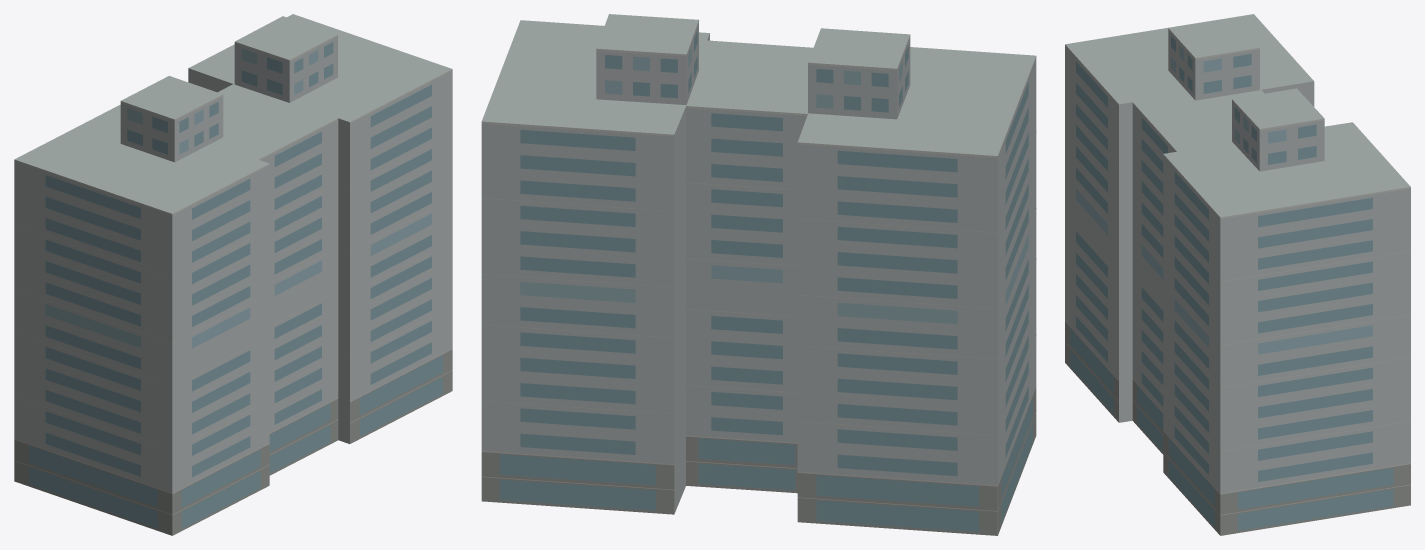
The model's file is residential-4451fd1a-79a7-4148-997d-b99a69b06c91.glb.
3 renders of one model, left to right at view 1: azimuth 30°, elevation 25°; view 2: azimuth 150°, elevation 25°; view 3: azimuth 270°, elevation 25°, orthographic. The views are drawn at different scales.
Visible parts, largest first — view 1: residential-4451fd1a-79a7-4148-997d-b99a69b06c91.tmp; view 2: residential-4451fd1a-79a7-4148-997d-b99a69b06c91.tmp; view 3: residential-4451fd1a-79a7-4148-997d-b99a69b06c91.tmp.
Boxes of the visible parts, left/top/right/bottom form: residential-4451fd1a-79a7-4148-997d-b99a69b06c91.tmp: left=14, top=14, right=452, bottom=535; residential-4451fd1a-79a7-4148-997d-b99a69b06c91.tmp: left=481, top=14, right=1036, bottom=535; residential-4451fd1a-79a7-4148-997d-b99a69b06c91.tmp: left=1065, top=14, right=1410, bottom=535.
Size of the model in its own units: 62.7 by 51.85 by 45.04.
